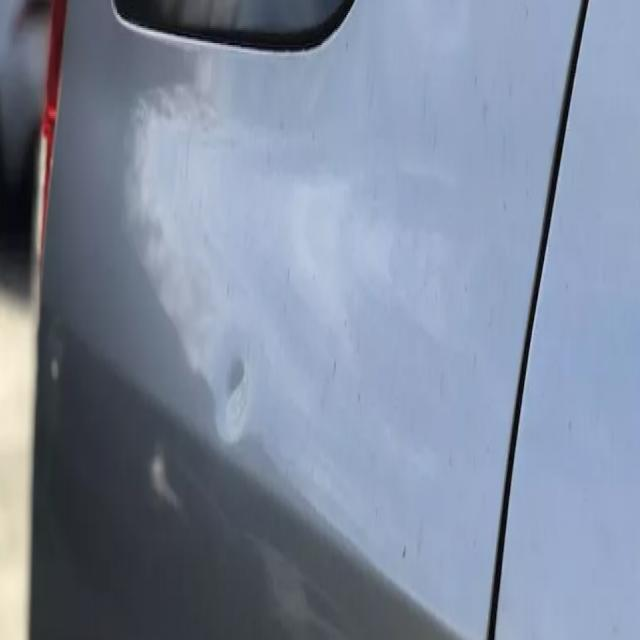dents: (210, 333, 256, 452)
